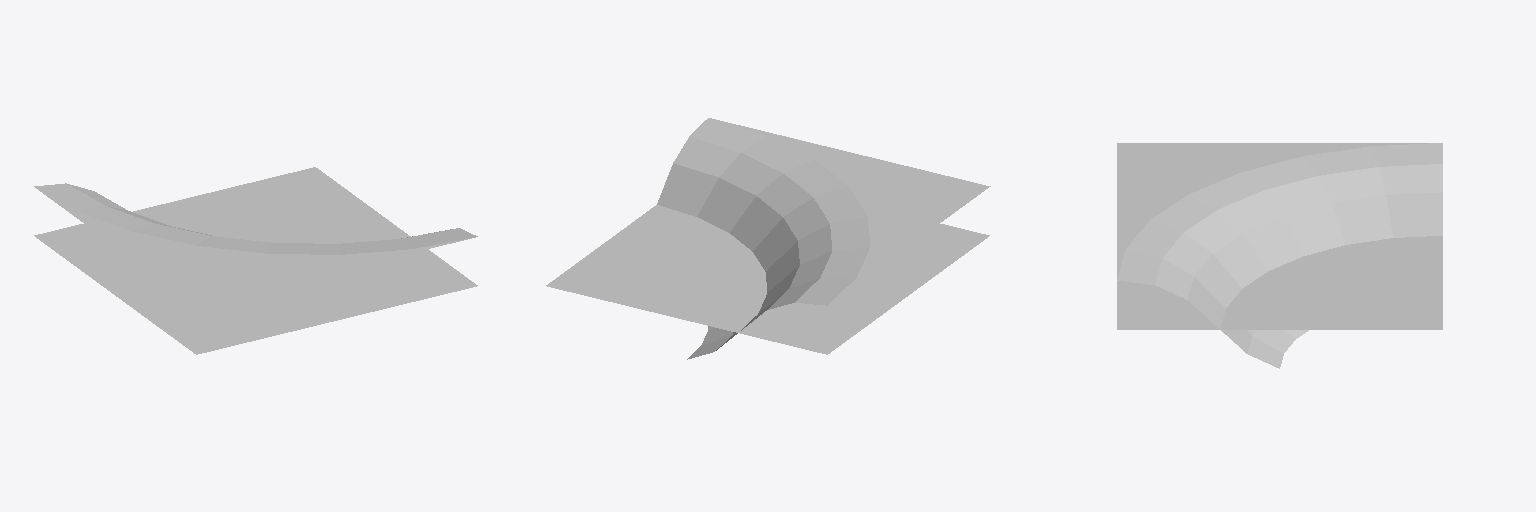
The model's file is Terrain_Water_Corner_Inner_3x3.obj.
The picture shows the model from 3 angles: view 1: azimuth 30°, elevation 25°; view 2: azimuth 150°, elevation 25°; view 3: azimuth 270°, elevation 25°; orthographic projection.
Visible parts, largest first — view 1: object1, object2; view 2: object2, object1; view 3: object2, object1.
Boxes of the visible parts, x1=… form: object1: x1=34, y1=167, x2=477, y2=354; object2: x1=34, y1=183, x2=477, y2=305; object2: x1=657, y1=118, x2=990, y2=359; object1: x1=546, y1=205, x2=989, y2=354; object2: x1=1117, y1=143, x2=1442, y2=368; object1: x1=1117, y1=236, x2=1442, y2=329.
Bounding box in the file's own units: 3 × 0.9 × 3.